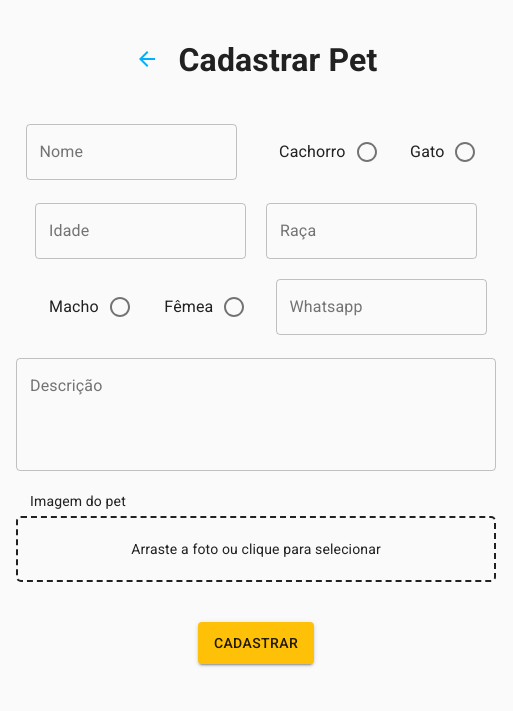
Test: Add pet page (direct interaction) › should not allow the user to register an empty pet
The image size is (513, 711).
Expected: the text "Campo obrigatório" is not shown
Click the button with test id "submit-button" at (256, 643), box [198,622,314,664]
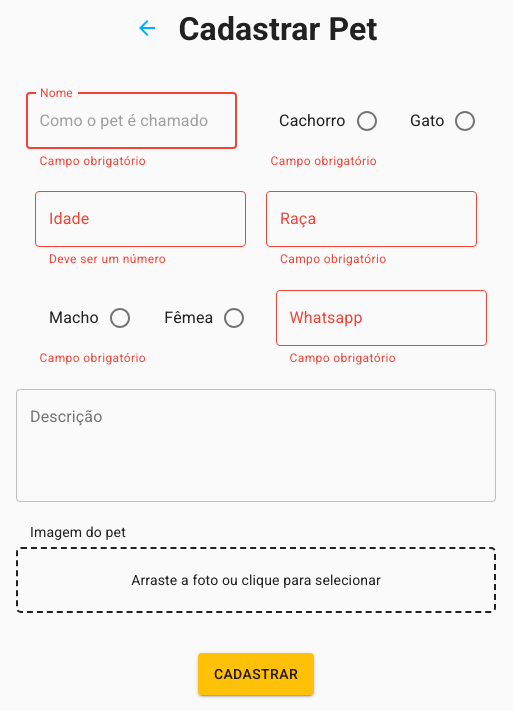
Expected: the text "Campo obrigatório" below "Nome" is shown, [40,154,147,168]
